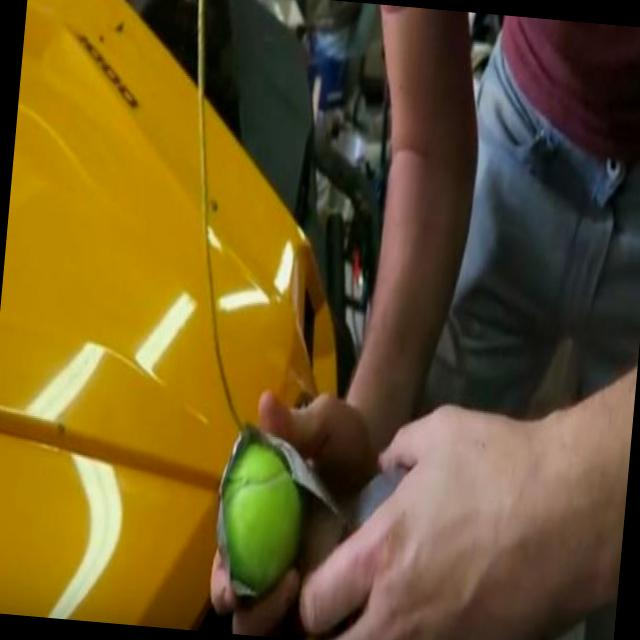Tennis Ball: (212, 437, 304, 590)
